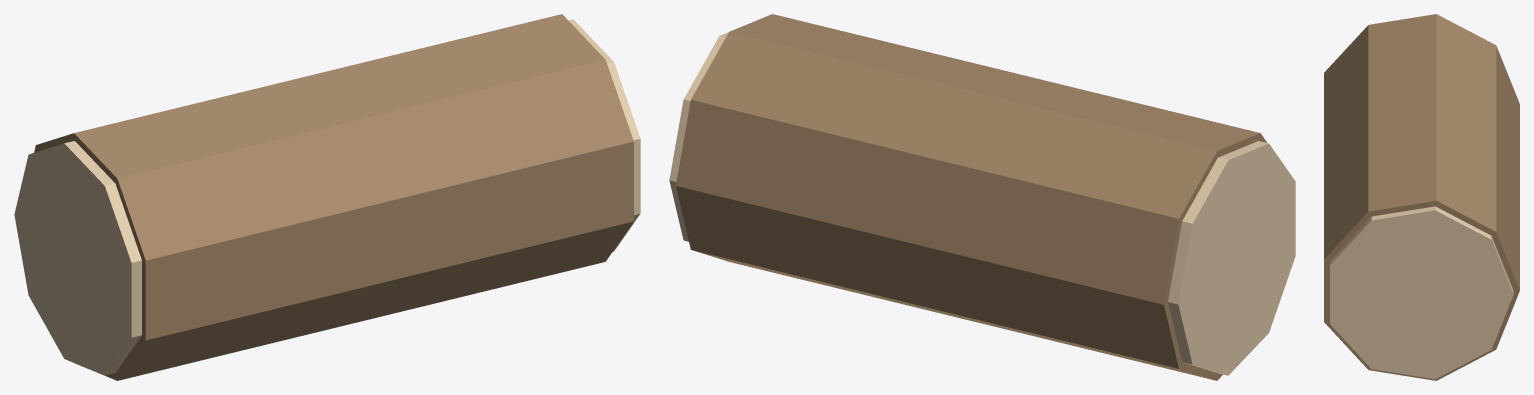
Rendered from log.fbx.
The picture shows the model from 3 angles, left to right: view 1: azimuth 30°, elevation 25°; view 2: azimuth 150°, elevation 25°; view 3: azimuth 270°, elevation 25°; orthographic projection. The views are drawn at different scales.
Visible parts, largest first — view 1: Log, CutL, CutR; view 2: Log, CutL, CutR; view 3: Log, CutR.
Part boxes in pixels (x1=…): Log: x1=34, y1=14, x2=633, y2=380; CutL: x1=14, y1=141, x2=141, y2=375; CutR: x1=568, y1=19, x2=640, y2=251; Log: x1=676, y1=14, x2=1267, y2=380; CutL: x1=1168, y1=141, x2=1295, y2=375; CutR: x1=669, y1=32, x2=728, y2=241; Log: x1=1324, y1=14, x2=1519, y2=380; CutR: x1=1330, y1=206, x2=1513, y2=379.
Size of the model in its own units: 1.46 by 0.6303 by 0.6207.
